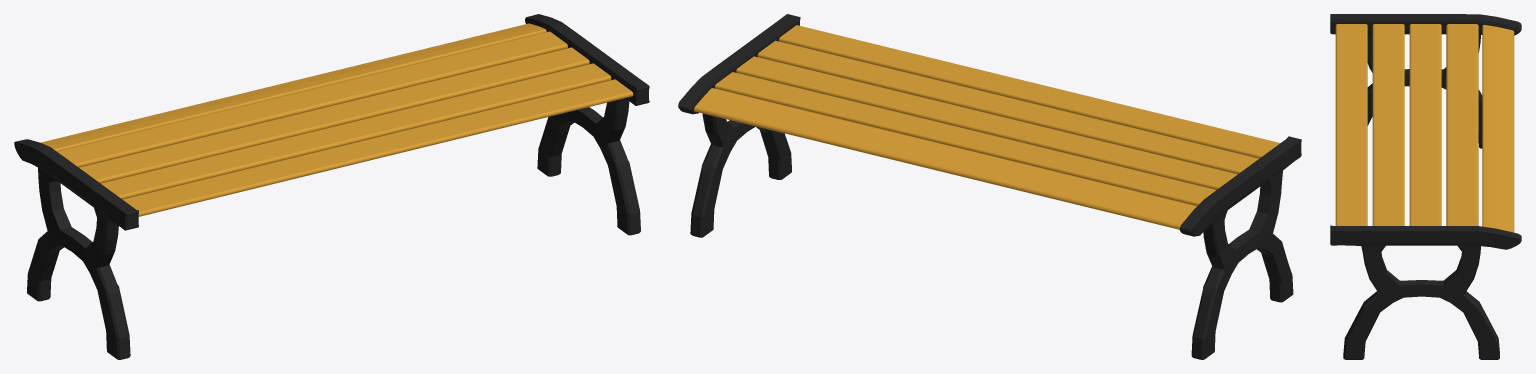
Rendered from bend.fbx.
3 renders of one model, left to right at view 1: azimuth 30°, elevation 25°; view 2: azimuth 150°, elevation 25°; view 3: azimuth 270°, elevation 25°, orthographic. The views are drawn at different scales.
Parts seen in each view (by area): view 1: bend; view 2: bend; view 3: bend.
Boxes of the visible parts, box(x1,y1,x2,y2) form: bend: box(14, 14, 649, 359); bend: box(678, 14, 1301, 359); bend: box(1330, 14, 1521, 359).
Size of the model in its own units: 1517 by 423 by 566.
